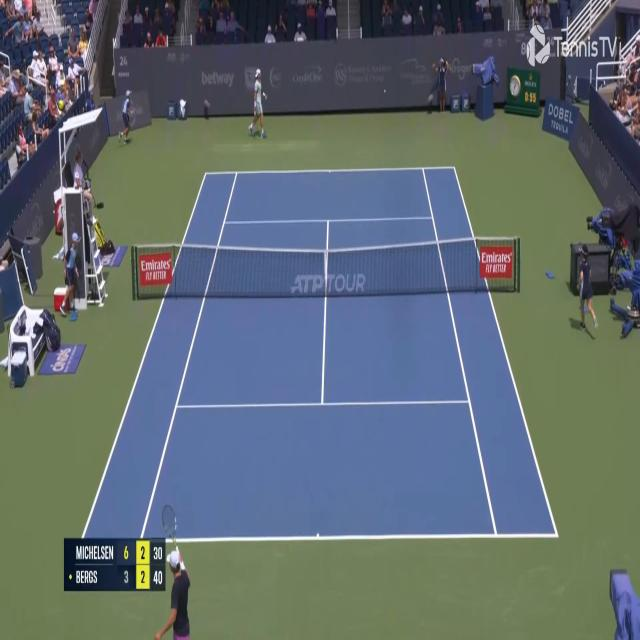tennis-player: (150, 498, 194, 639), (246, 67, 268, 140)
